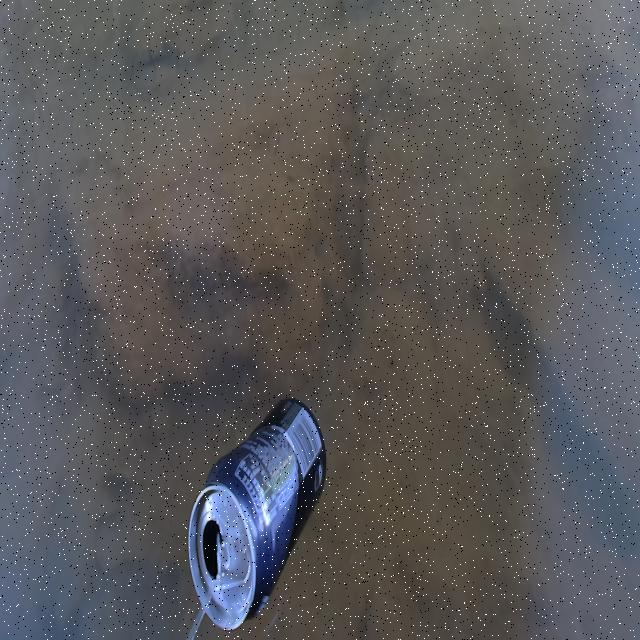Can: (183, 393, 327, 629)
